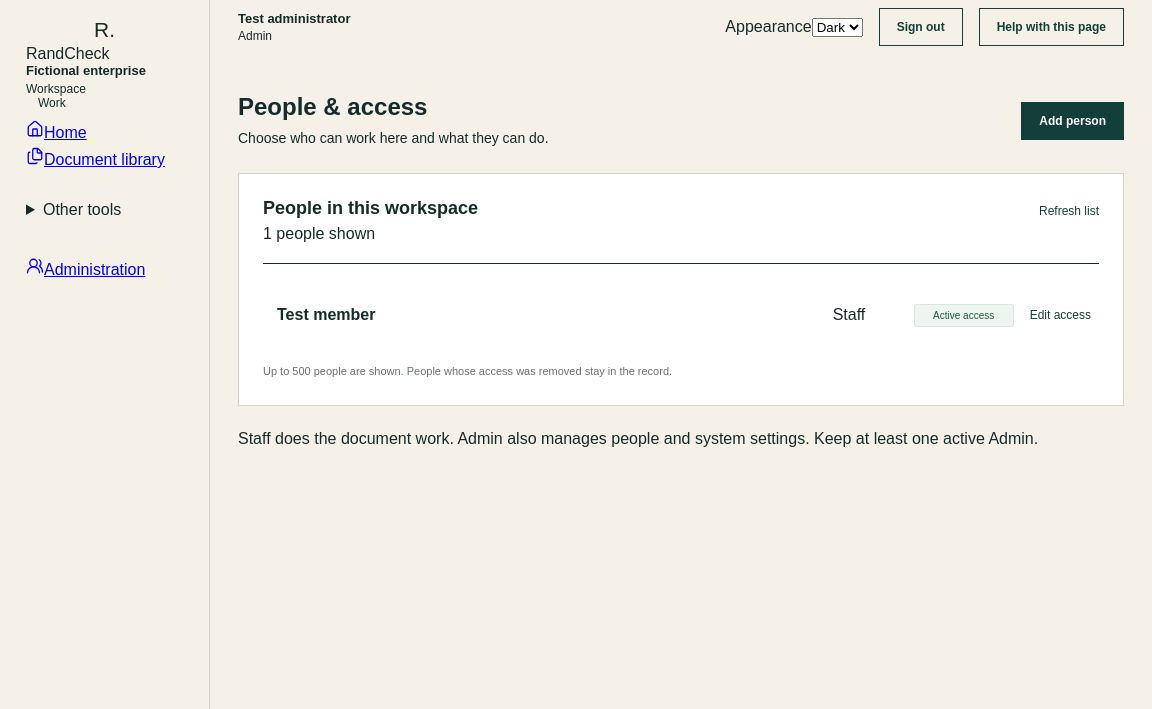
Test: organization access screens › asks for a concrete revocation confirmation before submitting
Click the button with aria-label "Edit Test member" at [1060, 315], box x1=1030 y1=302 x2=1091 y2=328
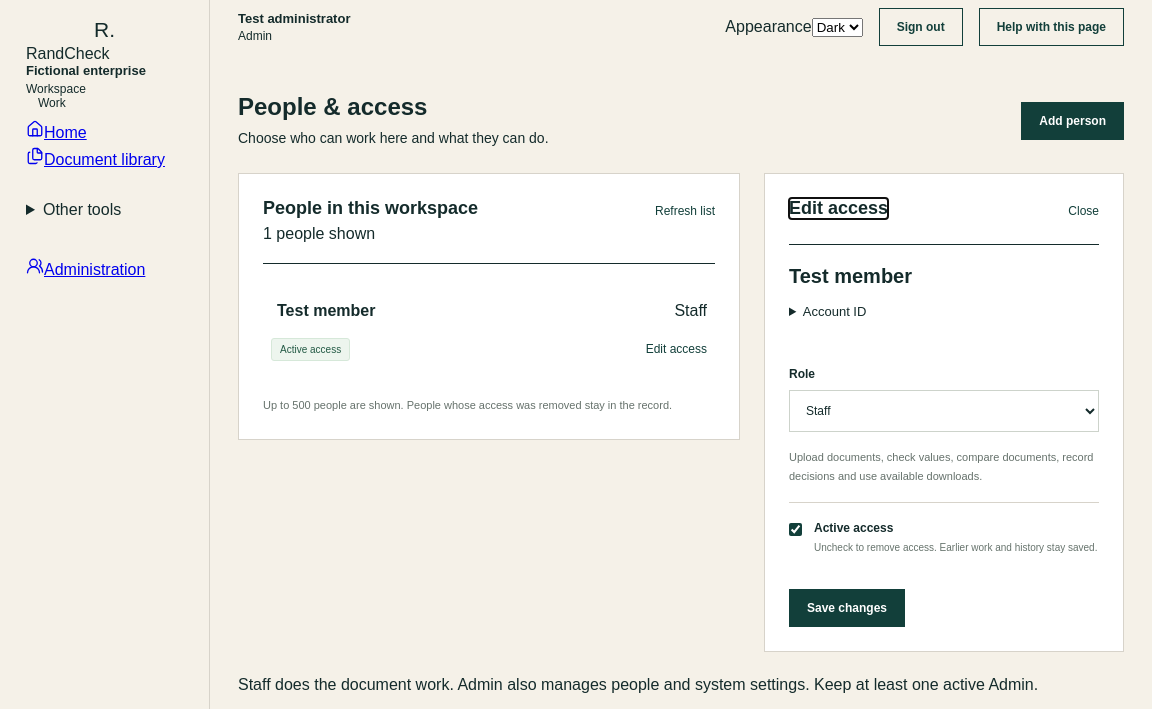
Click the checkbox labelled "Active access" at [796, 529], box x1=789 y1=523 x2=802 y2=536
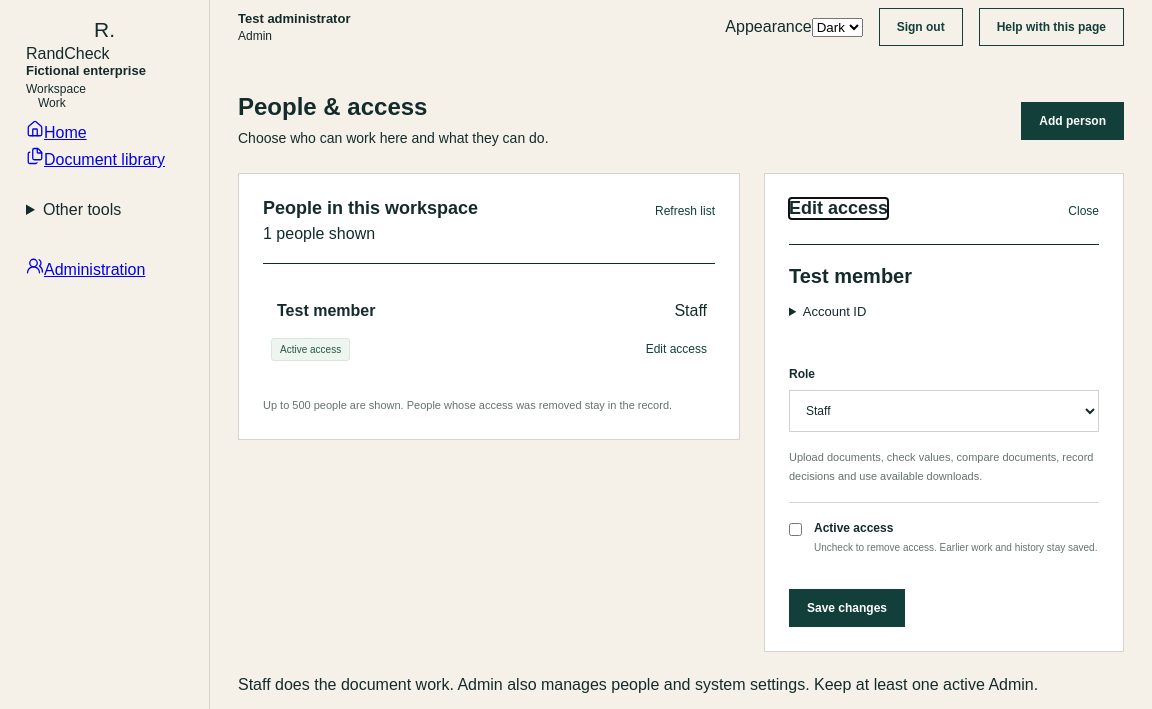
Click the button "Save changes" at [847, 608], box x1=789 y1=589 x2=905 y2=627
(page scrolled)
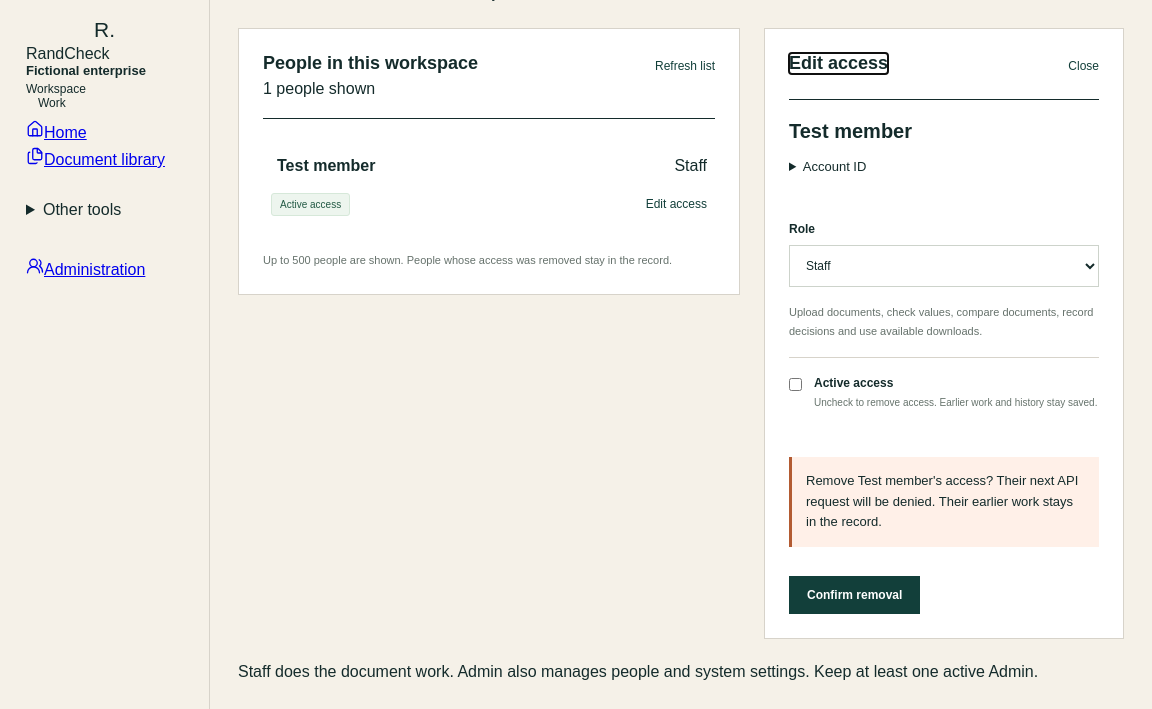
Expected: the button "Confirm removal" is shown, x1=789 y1=576 x2=920 y2=614
